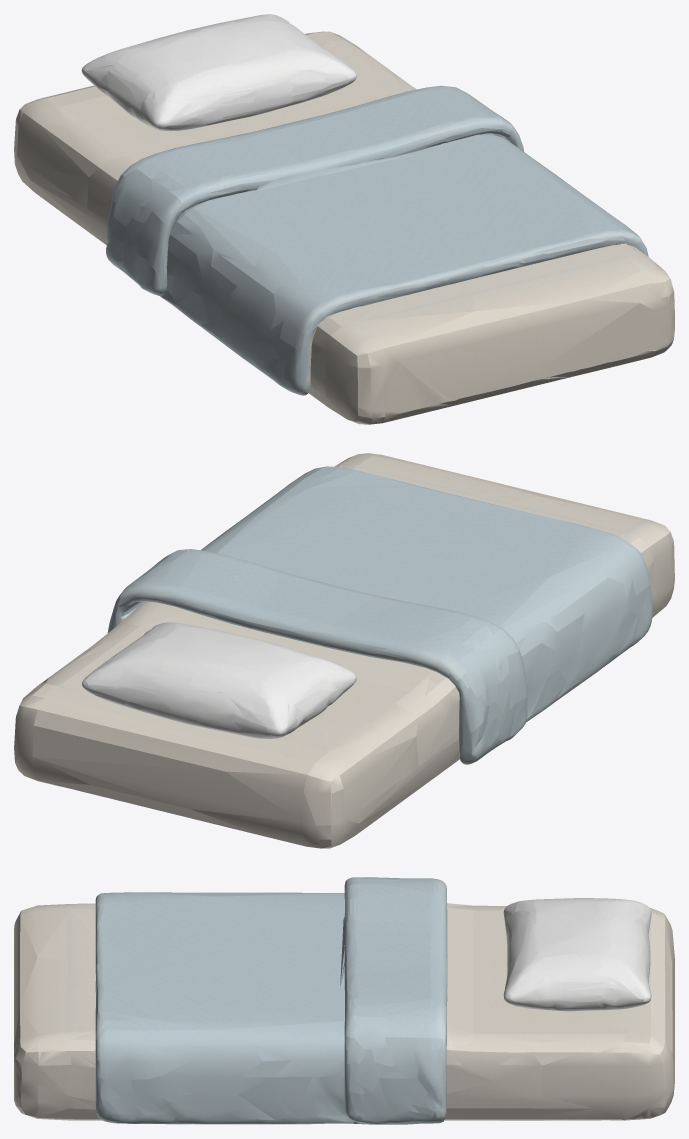
File: raw_mattress.glb
3 views of the same model, one above another, from view 1: azimuth 30°, elevation 25°; view 2: azimuth 150°, elevation 25°; view 3: azimuth 270°, elevation 25° (orthographic). The views are drawn at different scales.
Size of the model in its own units: 1.17 by 0.411 by 1.9.
1 material, 1 textured.
